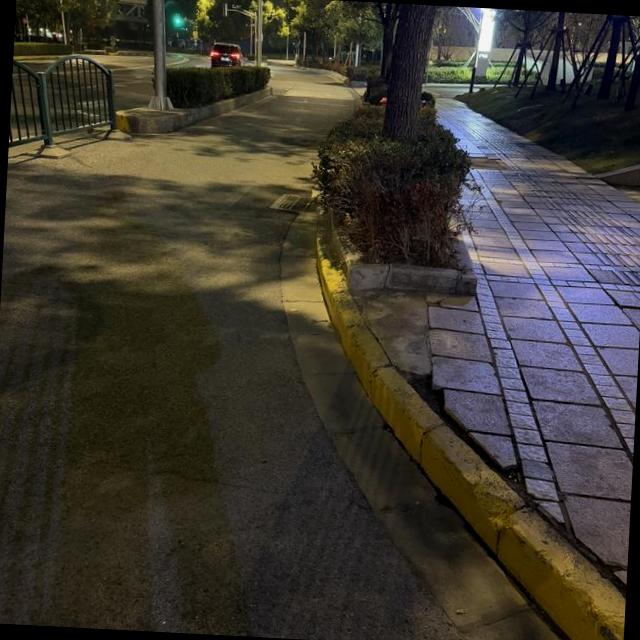curb: (317, 236, 625, 640), (116, 89, 270, 136), (326, 69, 367, 88), (423, 83, 471, 89), (474, 84, 495, 88)
